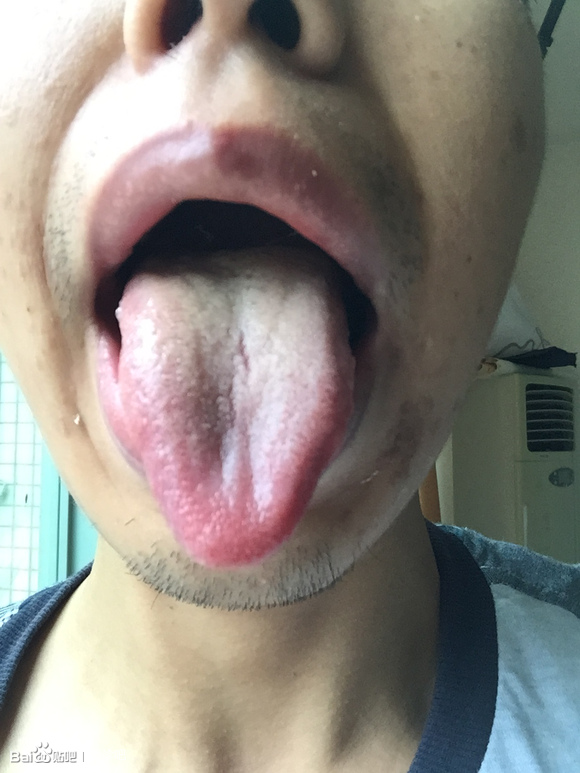baitaishe: (115, 245, 356, 569)
hongshe: (115, 245, 356, 569)
liewenshe: (214, 432, 258, 510), (235, 328, 253, 378)
